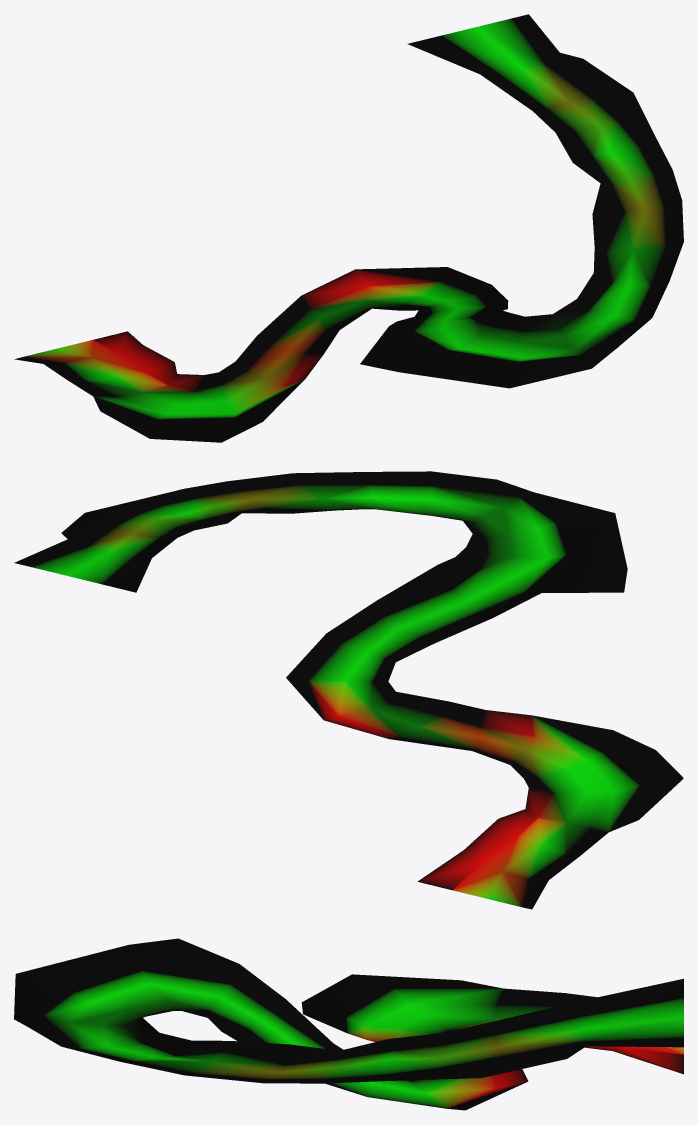
File: Section_WayBend180WaveTransition02_Mountains_Terrain.fbx
The picture shows the model from 3 angles, top to bottom: view 1: azimuth 30°, elevation 25°; view 2: azimuth 150°, elevation 25°; view 3: azimuth 270°, elevation 25°; orthographic projection. The views are drawn at different scales.
Parts seen in each view (by area): view 1: Section_WayBend180WaveTransition02_Mountains_Terrain; view 2: Section_WayBend180WaveTransition02_Mountains_Terrain; view 3: Section_WayBend180WaveTransition02_Mountains_Terrain.
Boxes of the visible parts, x1,y1,x2,y2 form: Section_WayBend180WaveTransition02_Mountains_Terrain: (14,14,683,442); Section_WayBend180WaveTransition02_Mountains_Terrain: (14,471,683,909); Section_WayBend180WaveTransition02_Mountains_Terrain: (14,938,683,1110).
Bounding box in the file's own units: 3882 × 1500 × 3598.
